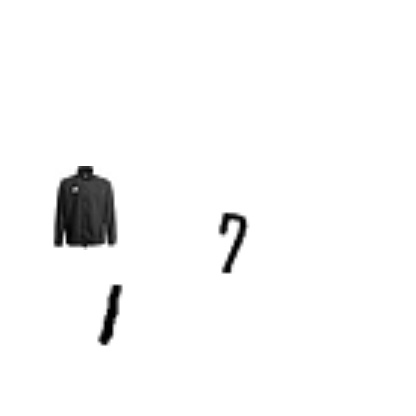1: (68, 273, 152, 357)
7: (189, 195, 273, 279)
Coat: (42, 166, 126, 250)
